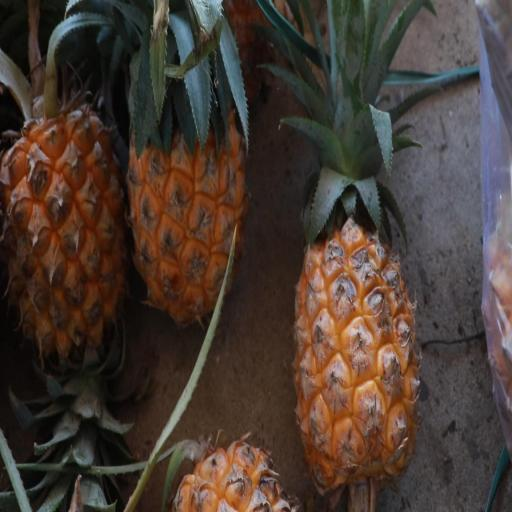Pineapple - v8 v1: (289, 194, 426, 512), (0, 59, 129, 370), (126, 42, 252, 336)
